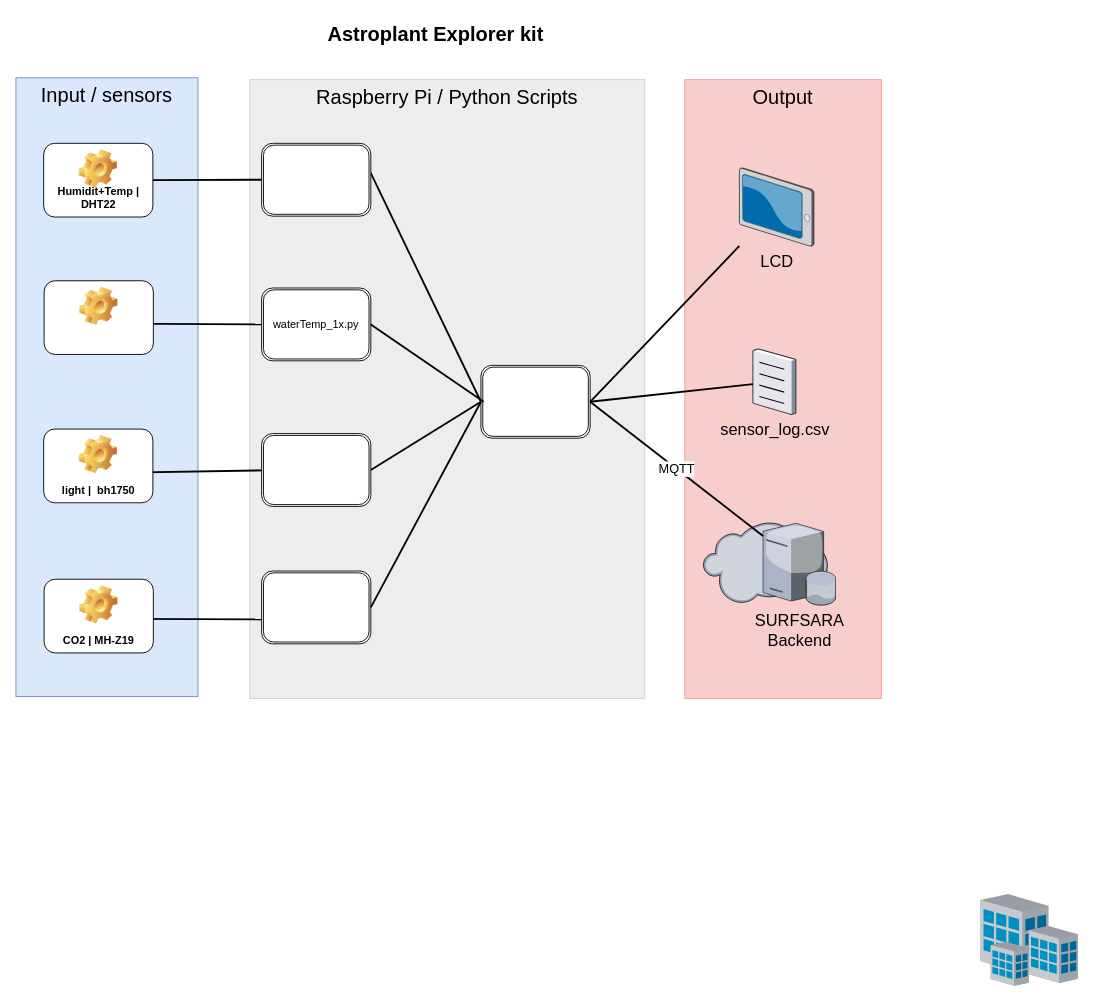
This 1094x1001 diagram has some shape labels left out. Here are the shapes that lost their labels. From the top down, the centre of each, then its label:
point 316,179: DHT_1x.py
point 98,317: Watertemp | DS18B20
point 535,401: read_all2.py
point 316,469: light_1x.py
point 316,607: co2_1x.py
